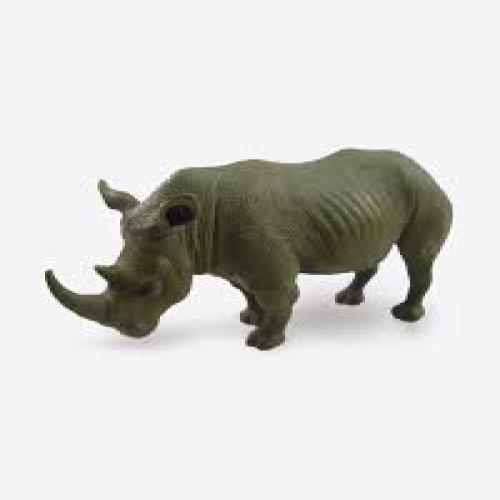rhino-endangered: (36, 144, 454, 351)
